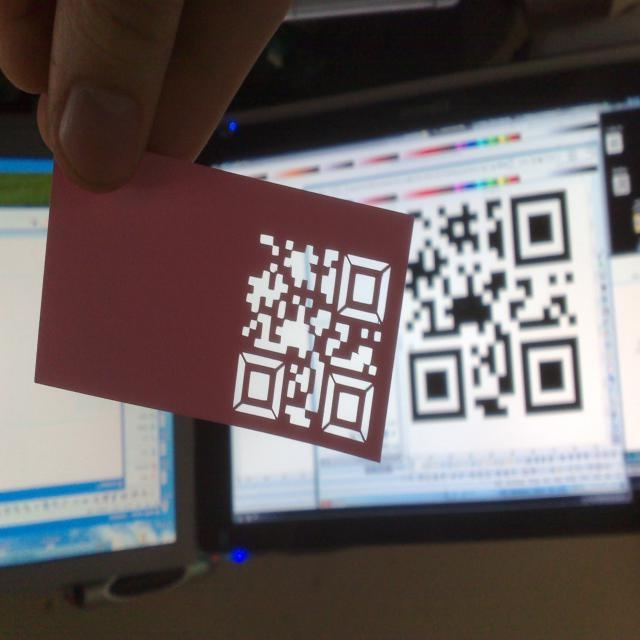qr-code: (407, 190, 582, 422), (232, 232, 392, 444)
